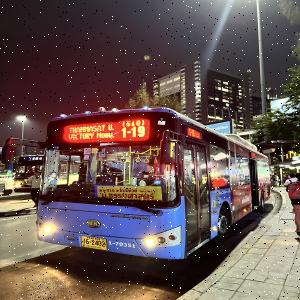BMTA-bus: (36, 108, 272, 261), (14, 156, 44, 201)
Bus Line Number: (120, 118, 148, 140)
Bus Side Number: (108, 238, 138, 250)
Destination Sign: (96, 185, 162, 203)
